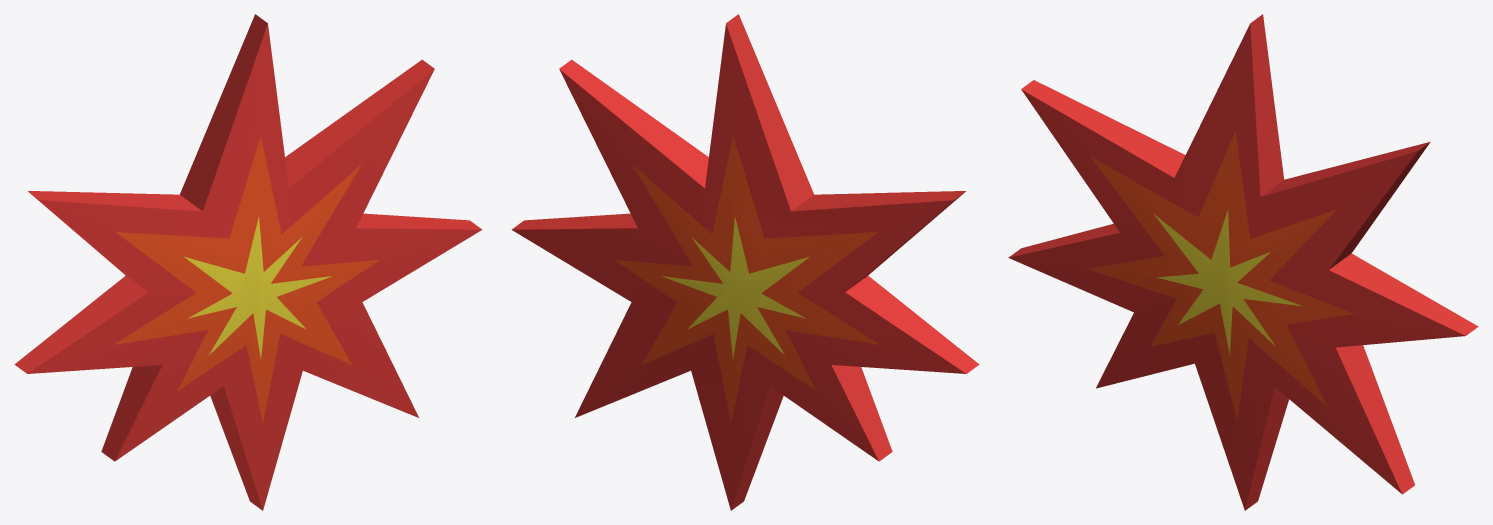
3 views of the same model, side by side, from view 1: azimuth 30°, elevation 25°; view 2: azimuth 150°, elevation 25°; view 3: azimuth 330°, elevation 25° (orthographic).
Visible parts, largest first — view 1: Plane.108; view 2: Plane.108; view 3: Plane.108.
Boxes of the visible parts, x1,y1,x2,y2 form: Plane.108: (14,14,482,510); Plane.108: (511,14,979,510); Plane.108: (1008,14,1478,510).
Bounding box in the file's own units: 210 × 215 × 22.66.
Materials: 1 (1 with a texture image).
